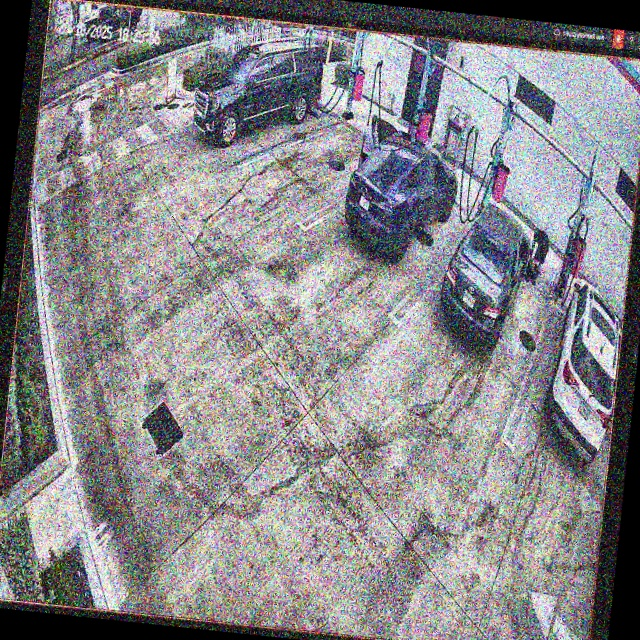Car: (340, 118, 463, 259), (438, 201, 535, 347)
